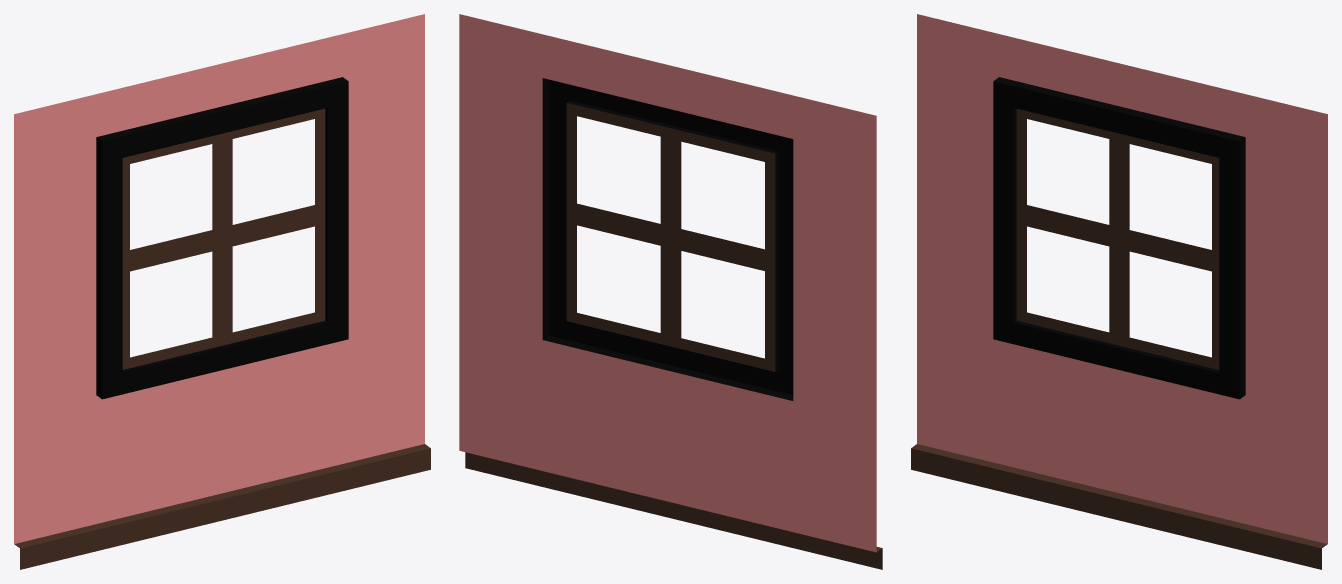
Rendered from SM_Fenetre_2_1x2.fbx.
3 renders of one model, left to right at view 1: azimuth 30°, elevation 25°; view 2: azimuth 150°, elevation 25°; view 3: azimuth 330°, elevation 25°, orthographic.
Parts seen in each view (by area): view 1: SM_Fenetre_2_1x2; view 2: SM_Fenetre_2_1x2; view 3: SM_Fenetre_2_1x2.
Part boxes in pixels (x1,y1,x2,y2): SM_Fenetre_2_1x2: (14,14,430,569); SM_Fenetre_2_1x2: (459,14,882,569); SM_Fenetre_2_1x2: (911,14,1327,569).
Bounding box in the file's own units: 2 × 2.1 × 0.05.
